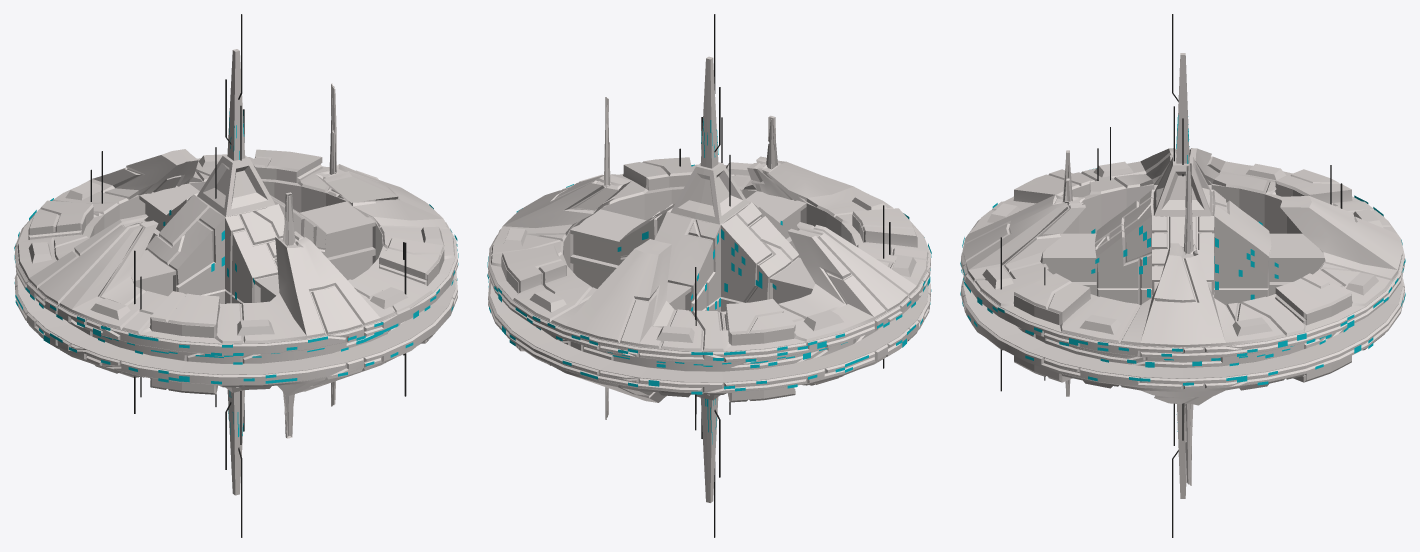
File: Station.fbx
3 views of the same model, side by side, from view 1: azimuth 30°, elevation 25°; view 2: azimuth 150°, elevation 25°; view 3: azimuth 270°, elevation 25° (orthographic).
Parts seen in each view (by area): view 1: Station Details 1, Station, Station Details 3, Station Details 2, Station Gravity Drives, Windows, Antenna; view 2: Station Details 1, Station, Station Details 3, Station Details 2, Station Gravity Drives, Windows, Antenna; view 3: Station Details 1, Station, Station Details 2, Station Details 3, Station Gravity Drives, Windows, Antenna.
Part boxes in pixels (bbox=[...]): Station Details 1: bbox=[17, 83, 454, 438]; Station: bbox=[17, 49, 455, 495]; Station Details 3: bbox=[14, 215, 457, 385]; Station Details 2: bbox=[146, 193, 326, 303]; Station Gravity Drives: bbox=[28, 154, 444, 389]; Windows: bbox=[14, 110, 458, 436]; Antenna: bbox=[90, 14, 406, 537]; Station Details 1: bbox=[491, 97, 928, 419]; Station: bbox=[490, 56, 928, 502]; Station Details 3: bbox=[488, 174, 930, 392]; Station Details 2: bbox=[619, 201, 799, 311]; Station Gravity Drives: bbox=[502, 162, 916, 397]; Windows: bbox=[487, 118, 931, 444]; Antenna: bbox=[679, 14, 890, 537]; Station Details 1: bbox=[963, 148, 1402, 485]; Station: bbox=[963, 53, 1402, 498]; Station Details 2: bbox=[1095, 189, 1271, 304]; Station Details 3: bbox=[961, 219, 1404, 389]; Station Gravity Drives: bbox=[982, 161, 1383, 390]; Windows: bbox=[960, 115, 1405, 431]; Antenna: bbox=[1000, 14, 1342, 537].
Bounding box in the file's own units: 1648 × 2137 × 1648.
